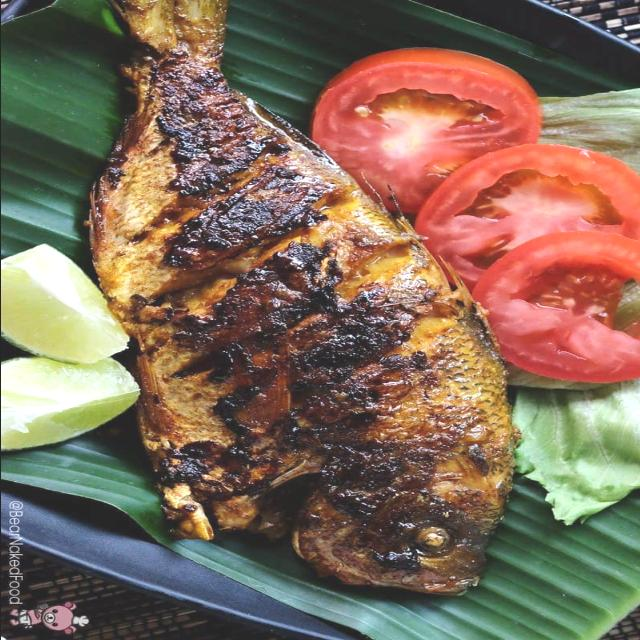ikan bakar: (84, 27, 517, 597)
